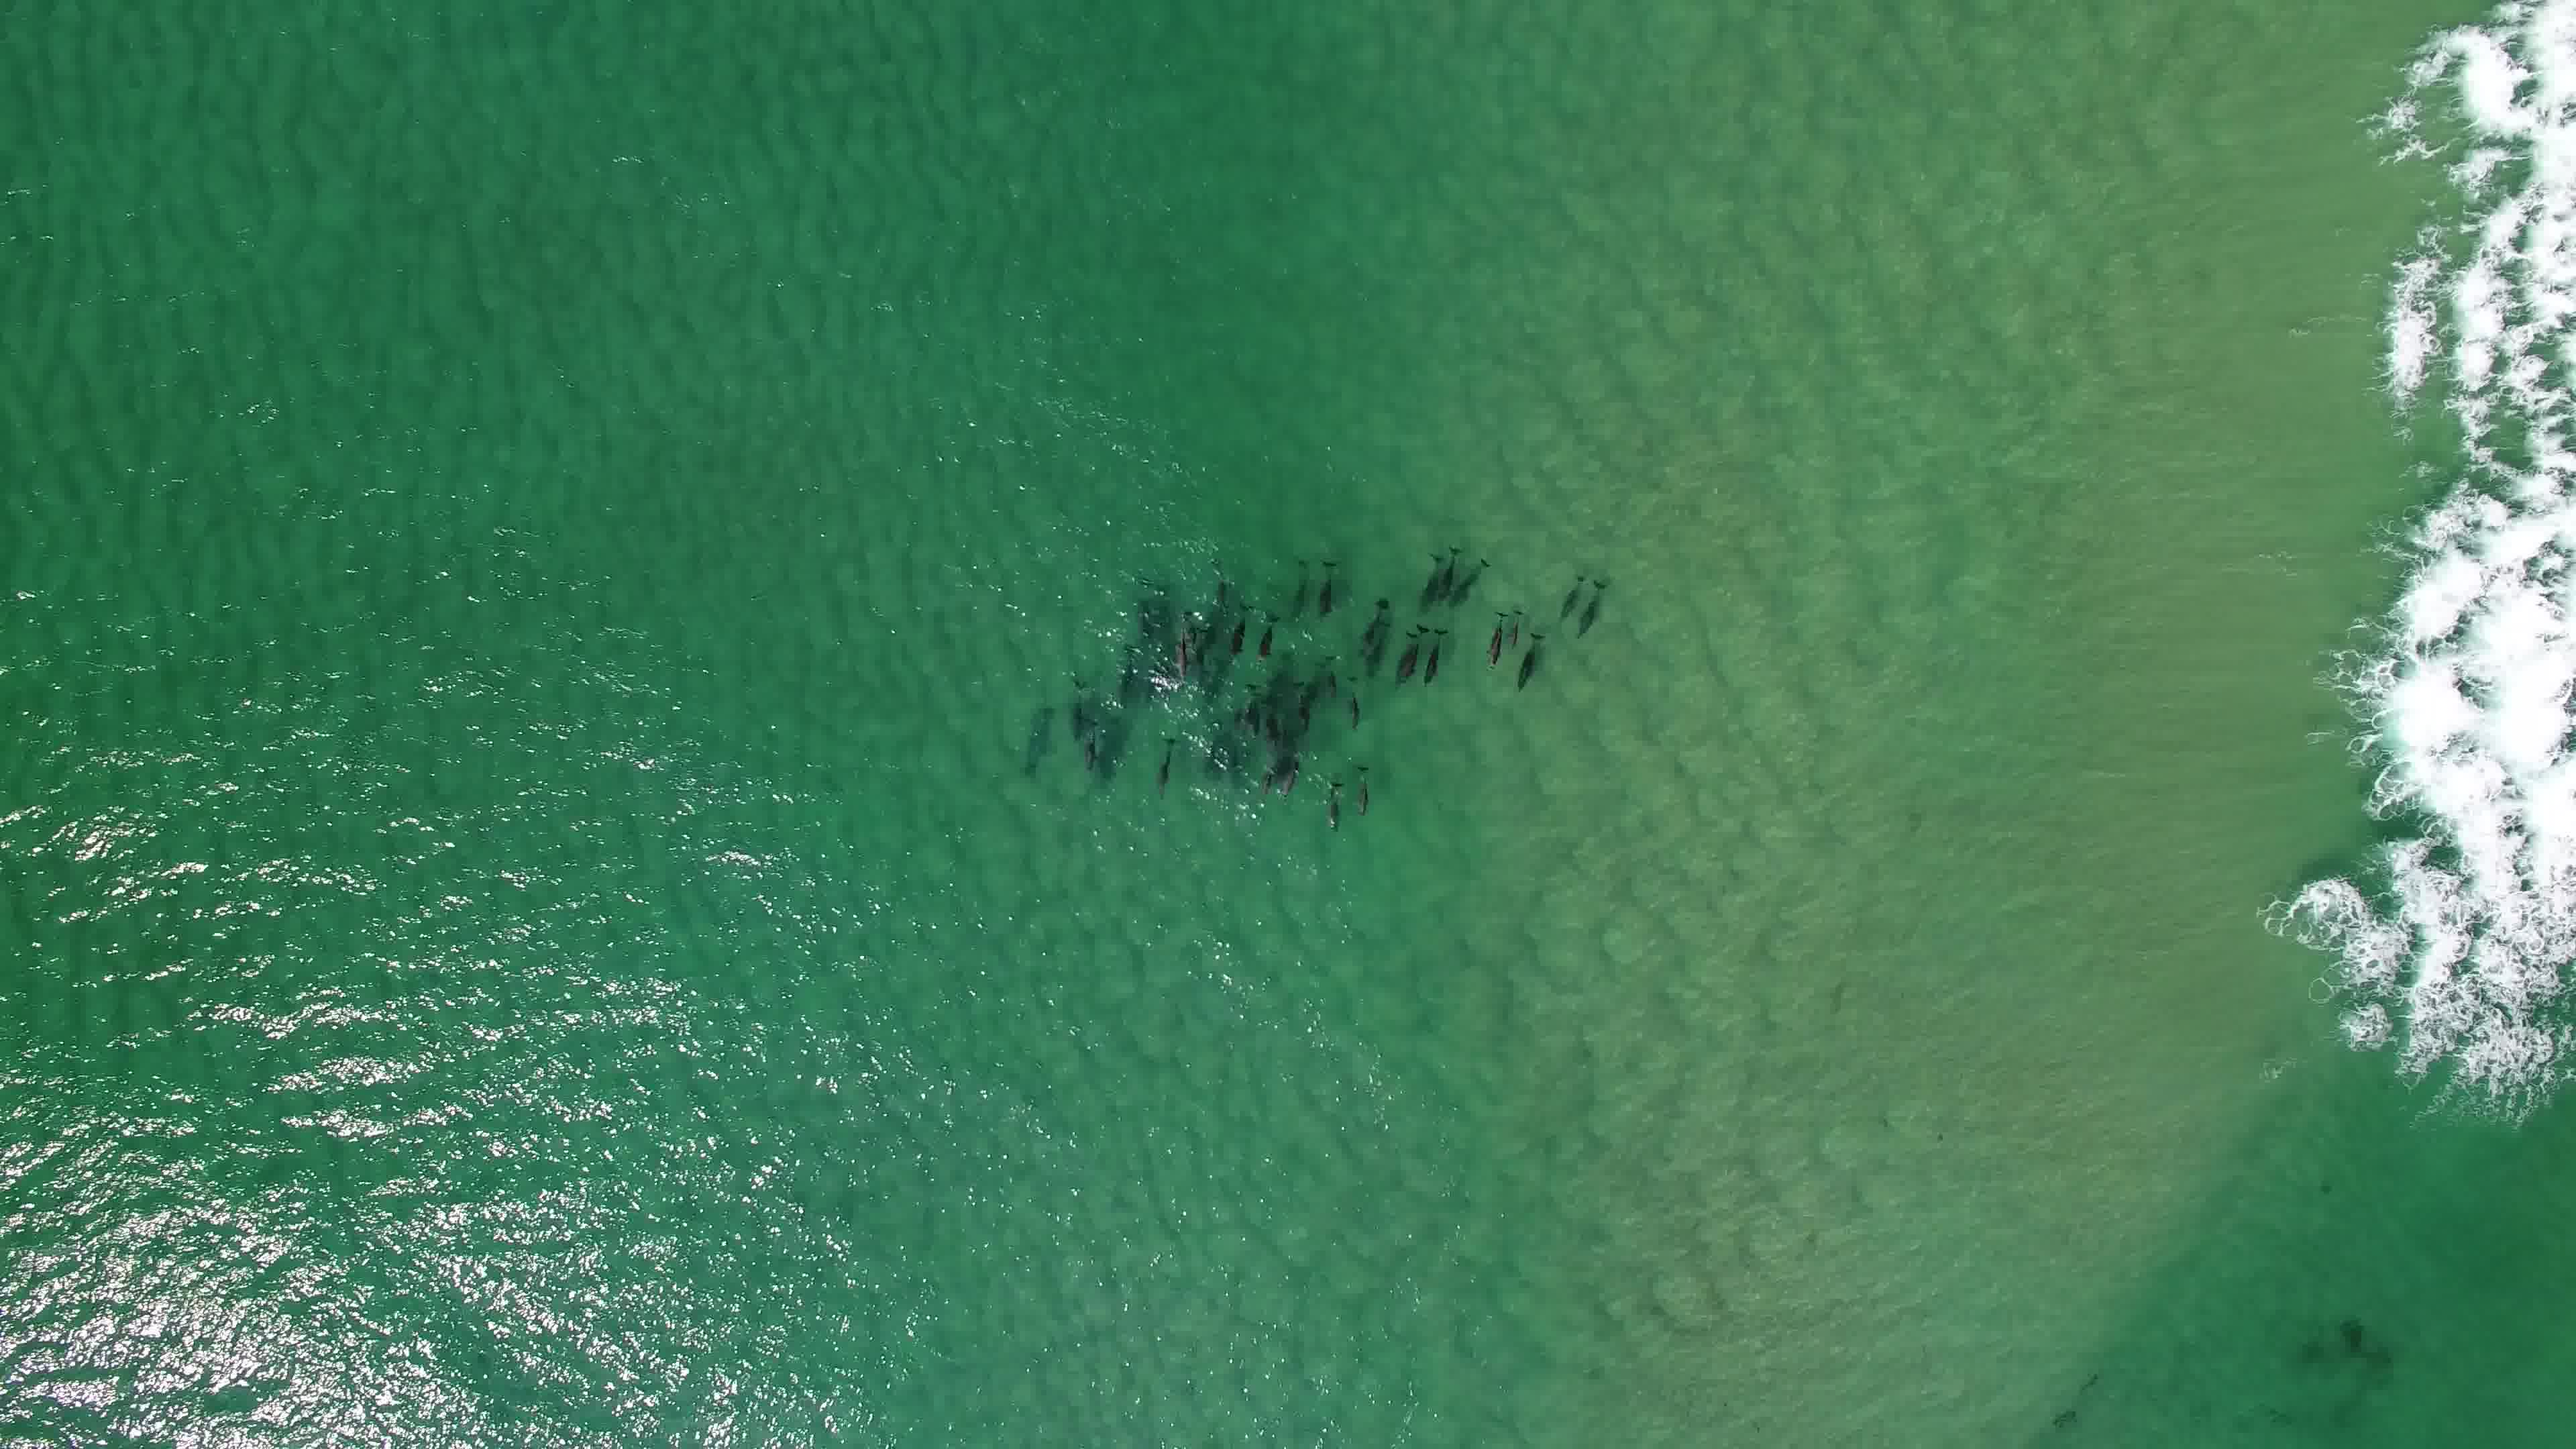dolphin: (1132, 725, 1191, 801), (1311, 761, 1355, 846), (1569, 577, 1624, 644), (1162, 610, 1208, 686), (1346, 752, 1389, 830), (1348, 591, 1391, 663), (1387, 617, 1426, 690), (1336, 667, 1376, 736), (1449, 543, 1488, 614), (1309, 550, 1348, 619), (1417, 616, 1449, 699), (1062, 708, 1104, 768), (1410, 545, 1444, 619), (1546, 566, 1589, 623), (1474, 605, 1511, 669), (1235, 686, 1272, 750), (1274, 745, 1309, 810), (1249, 605, 1284, 669), (1433, 538, 1463, 609), (1224, 594, 1253, 665), (1290, 676, 1318, 741), (1258, 757, 1279, 800), (1504, 600, 1523, 644)
